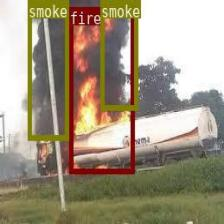fire: (68, 7, 134, 173)
smoke: (28, 0, 68, 140), (100, 0, 137, 110)
